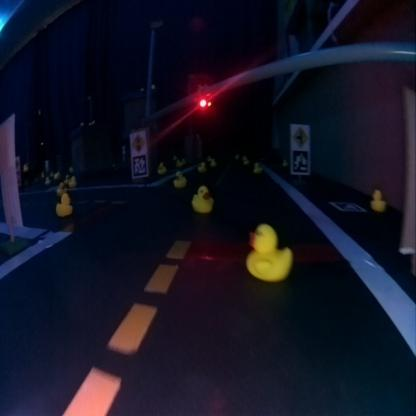Duckie: (246, 222, 288, 279), (191, 186, 212, 212), (55, 194, 71, 216), (371, 188, 386, 211), (173, 172, 184, 186), (157, 161, 163, 173), (68, 175, 74, 186), (253, 162, 259, 172), (200, 162, 205, 171)
Intersection sign: (290, 124, 310, 149)
QR code: (330, 200, 364, 212), (132, 153, 146, 177), (292, 150, 307, 171)
Signal sign: (130, 133, 144, 150)
Traffic light: (196, 86, 209, 108)
